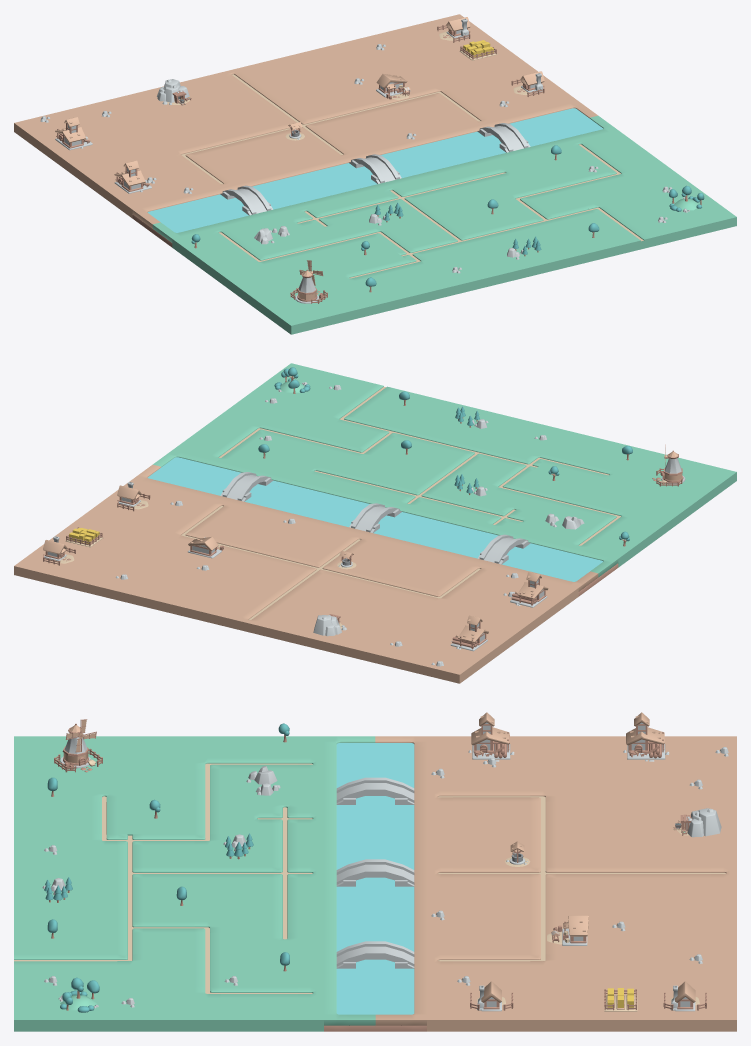
The model's file is Map.fbx.
3 renders of one model, top to bottom at view 1: azimuth 30°, elevation 25°; view 2: azimuth 150°, elevation 25°; view 3: azimuth 270°, elevation 25°, orthographic. The views are drawn at different scales.
Visible parts, largest first — view 1: Tiles, Water, Bridge_1, Bridge_3, Bridge_2; view 2: Tiles, Water, Bridge_1, Bridge_3, Bridge_2; view 3: Tiles, Water, Bridge_1, Bridge_2, Bridge_3.
Boxes of the visible parts, x1,y1,x2,y2 form: Tiles: (14, 14, 736, 334); Water: (147, 108, 603, 232); Bridge_1: (477, 123, 530, 152); Bridge_3: (220, 185, 272, 215); Bridge_2: (349, 154, 401, 183); Tiles: (14, 363, 736, 683); Water: (147, 457, 603, 581); Bridge_1: (220, 472, 273, 501); Bridge_3: (478, 534, 530, 564); Bridge_2: (349, 503, 401, 532); Tiles: (14, 712, 736, 1031); Water: (336, 743, 414, 1014); Bridge_1: (336, 941, 414, 968); Bridge_2: (336, 859, 414, 886); Bridge_3: (336, 777, 414, 804).
Size of the model in its own units: 52 by 5.17 by 56.
